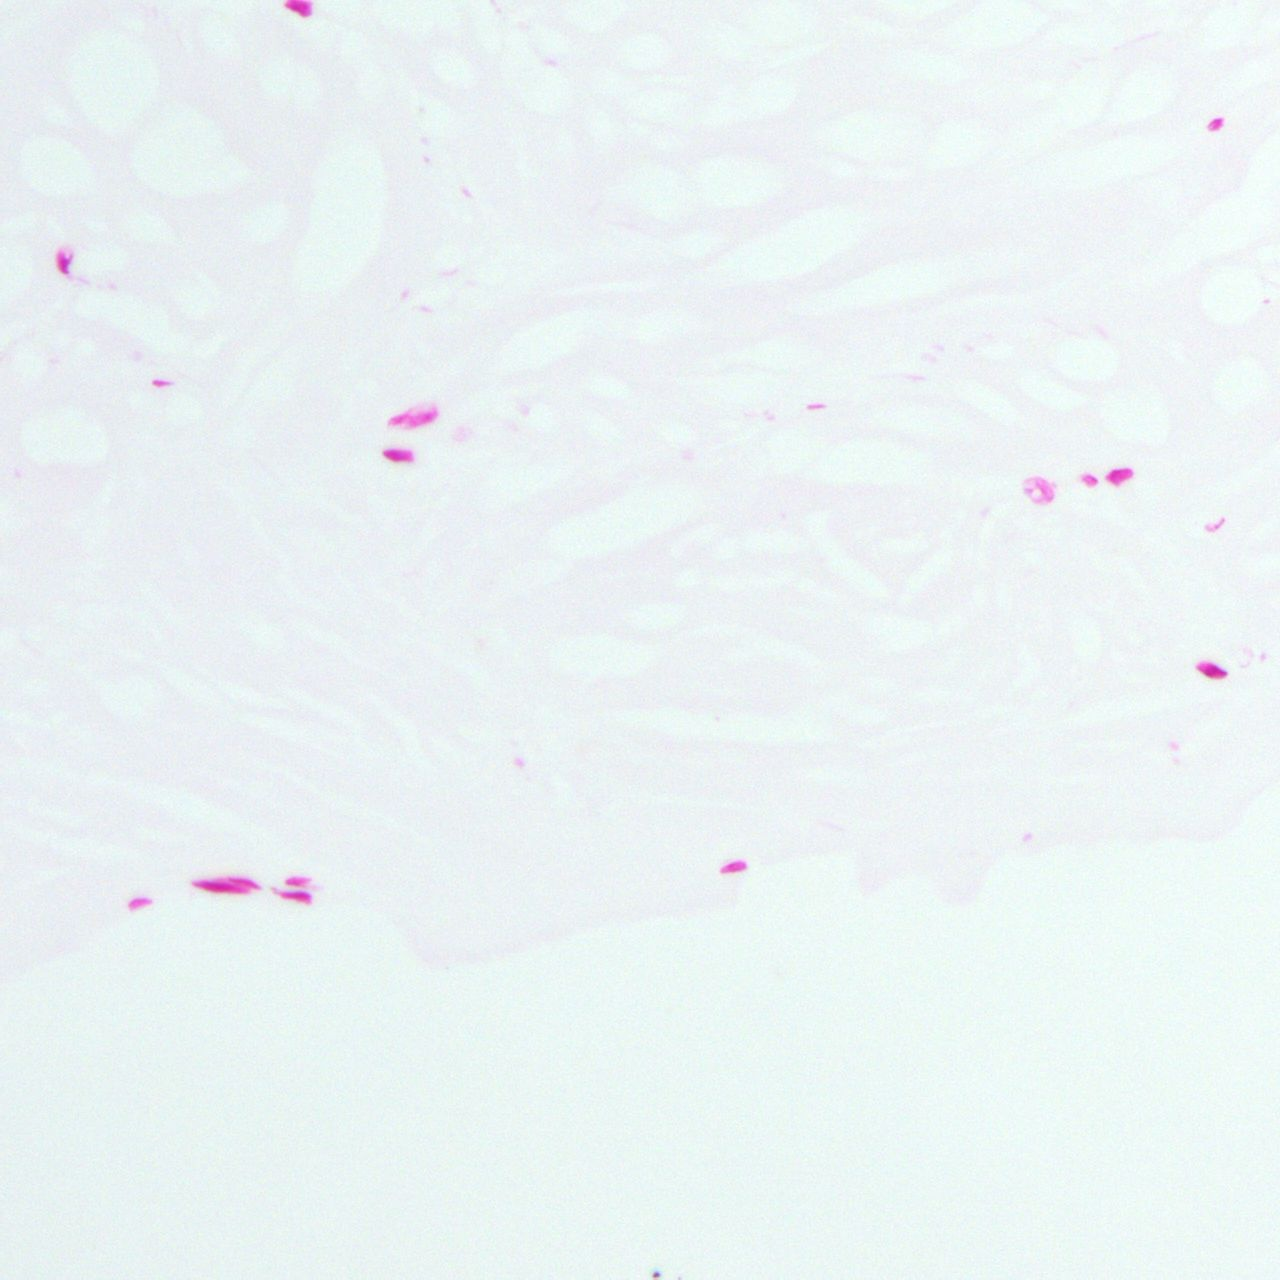nucleus-FG: (1196, 656, 1228, 686), (1105, 468, 1132, 483)
